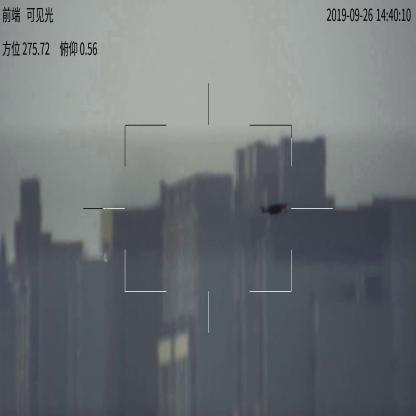uav: (256, 202, 288, 218)
